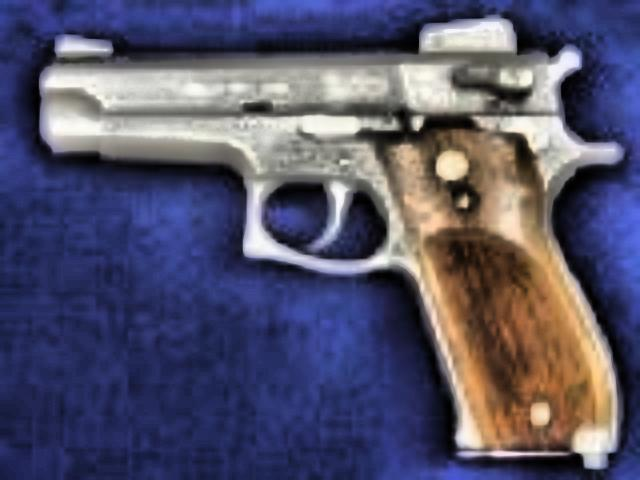pistol: (36, 8, 628, 456)
